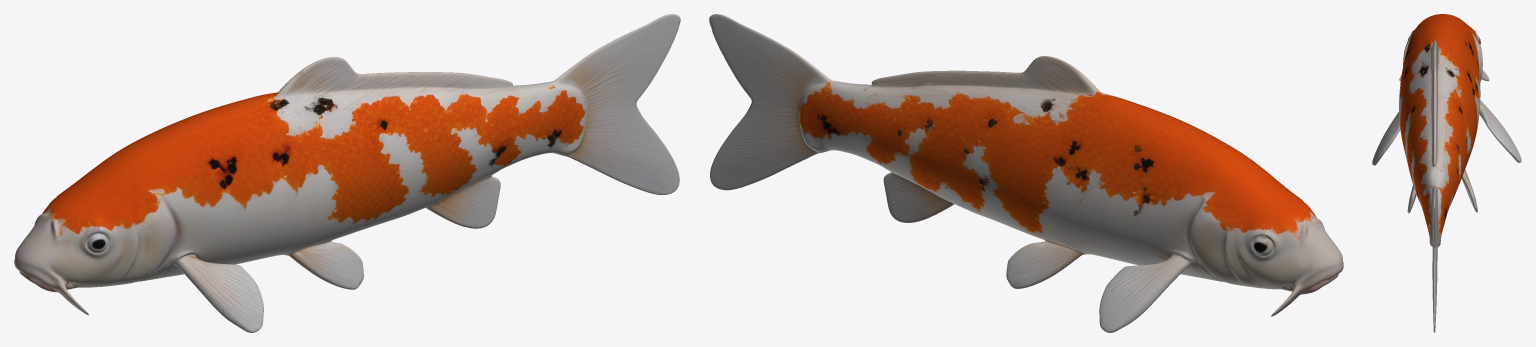
File: koi3.glb
The picture shows the model from 3 angles, left to right: view 1: azimuth 30°, elevation 25°; view 2: azimuth 150°, elevation 25°; view 3: azimuth 270°, elevation 25°; orthographic projection. The views are drawn at different scales.
Parts seen in each view (by area): view 1: material; view 2: material; view 3: material.
Part boxes in pixels (box(x1,y1,x2,y2)): material: box(14, 14, 680, 332); material: box(709, 14, 1343, 332); material: box(1372, 14, 1521, 332).
Bounding box in the file's own units: 1.15 × 0.3721 × 0.3066.
1 material, 1 textured.
